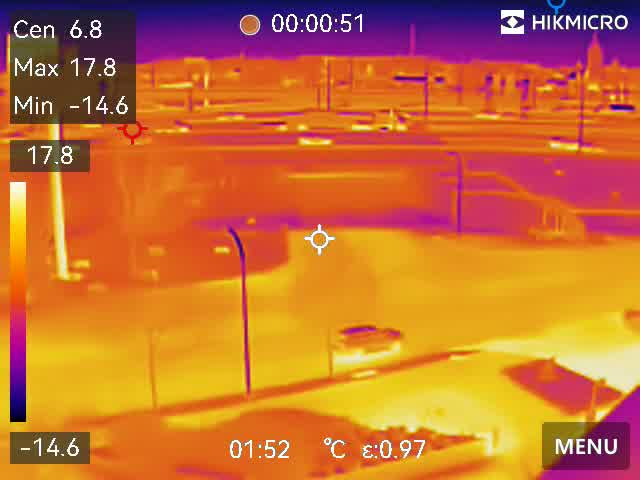vehicle: (334, 325, 404, 352), (544, 134, 600, 158), (292, 132, 337, 151)
